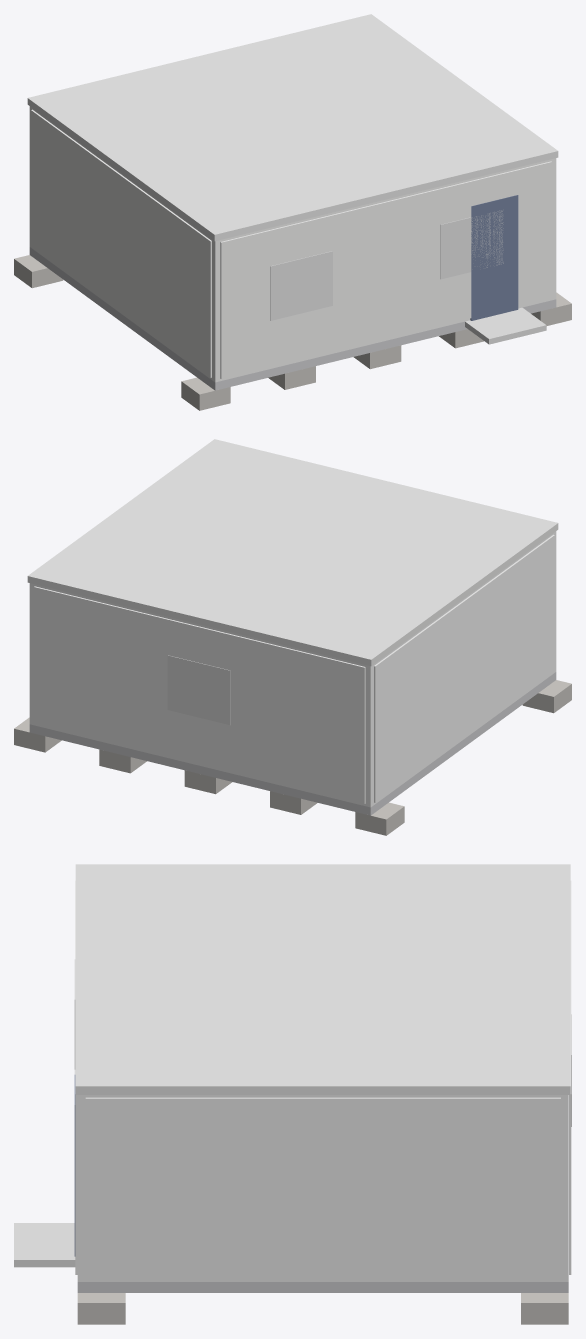
Rendered from Studio-20-Village-LOD1.glb.
The picture shows the model from 3 angles, top to bottom: view 1: azimuth 30°, elevation 25°; view 2: azimuth 150°, elevation 25°; view 3: azimuth 270°, elevation 25°; orthographic projection. The views are drawn at different scales.
Visible parts, largest first — view 1: RoofMain, ExteriorPanelsStandard, WindowsStandard, EntryDoor, FoundationBlocks, ExteriorShell, BaseFrame, AccessibilityVillage; view 2: ExteriorPanelsStandard, RoofMain, FoundationBlocks, ExteriorShell, BaseFrame, WindowsStandard; view 3: RoofMain, ExteriorPanelsStandard, ExteriorShell, BaseFrame, FoundationBlocks, AccessibilityVillage.
Boxes of the visible parts, <box> form: RoofMain: <box>27,14,558,241</box>; ExteriorPanelsStandard: <box>31,109,551,378</box>; WindowsStandard: <box>270,210,503,320</box>; EntryDoor: <box>470,195,518,320</box>; FoundationBlocks: <box>14,255,571,410</box>; ExteriorShell: <box>29,106,556,382</box>; BaseFrame: <box>29,247,556,390</box>; AccessibilityVillage: <box>465,307,546,344</box>; ExteriorPanelsStandard: <box>34,534,554,803</box>; RoofMain: <box>27,439,558,666</box>; FoundationBlocks: <box>14,680,571,835</box>; ExteriorShell: <box>29,531,556,807</box>; BaseFrame: <box>29,672,556,815</box>; WindowsStandard: <box>167,655,230,725</box>; RoofMain: <box>75,864,570,1094</box>; ExteriorPanelsStandard: <box>75,881,571,1279</box>; ExteriorShell: <box>77,1095,568,1281</box>; BaseFrame: <box>77,1282,568,1292</box>; FoundationBlocks: <box>77,1293,568,1324</box>; AccessibilityVillage: <box>14,1223,75,1267</box>.
Size of the model in its own units: 7.14 by 3.17 by 7.
